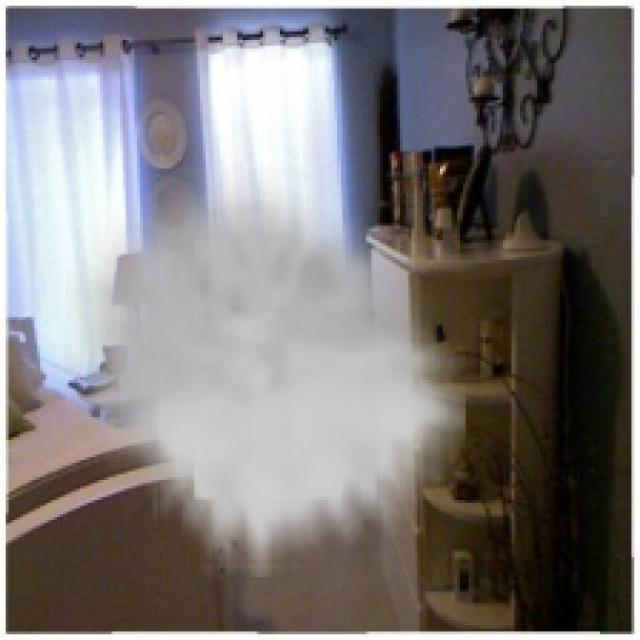Smoke: (66, 165, 466, 578)
